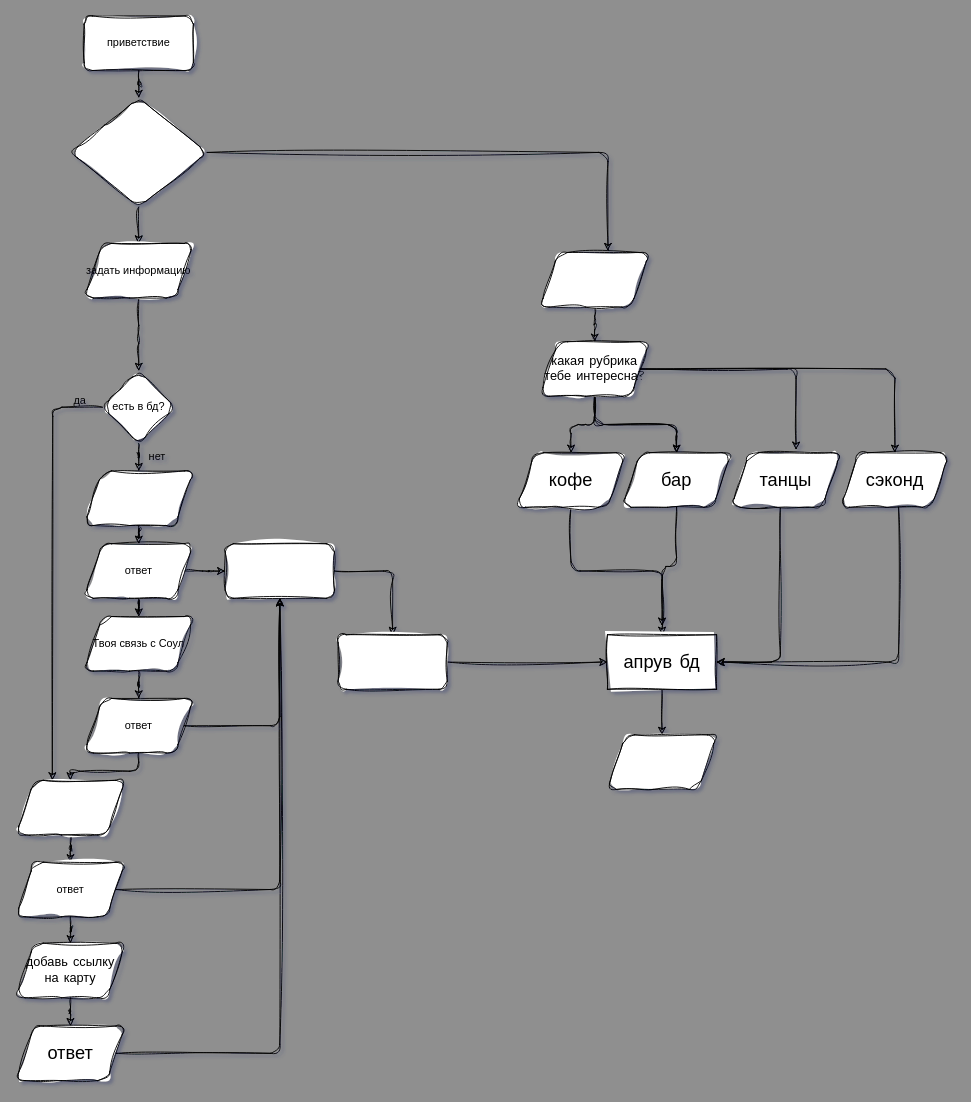
Image size: 971x1102. Some labels were removed from this diagram. The shapes that lost their labels are listed below. From the top down, each one's box as (x1, y1, x2, y2) in pixels, then its label:
(70, 97, 207, 207): ты можешь
(539, 252, 649, 307): считать информацию
(83, 470, 193, 526): В первый раз, спросим как тебя зовут?
(224, 543, 334, 598): запись в бд
(337, 634, 447, 689): ручная сортировка и апрув
(607, 734, 717, 789): Список
(15, 779, 125, 835): Поделись любимым местом
